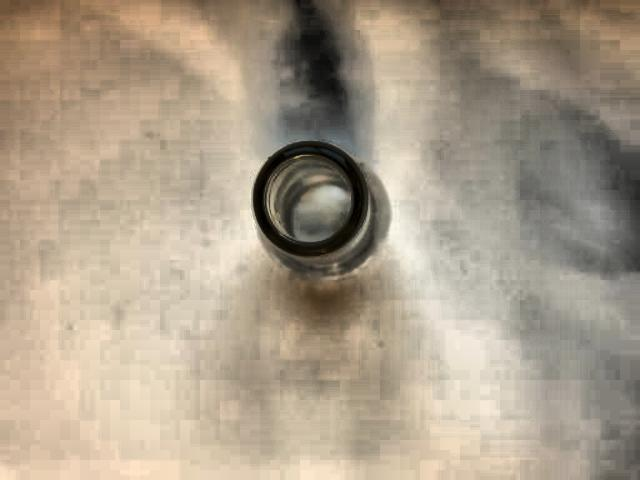Bottles: (226, 120, 417, 293)
